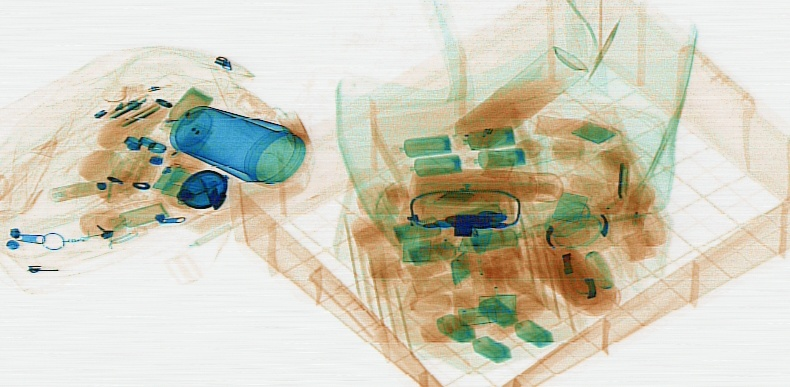pressure: (435, 44, 590, 153)
